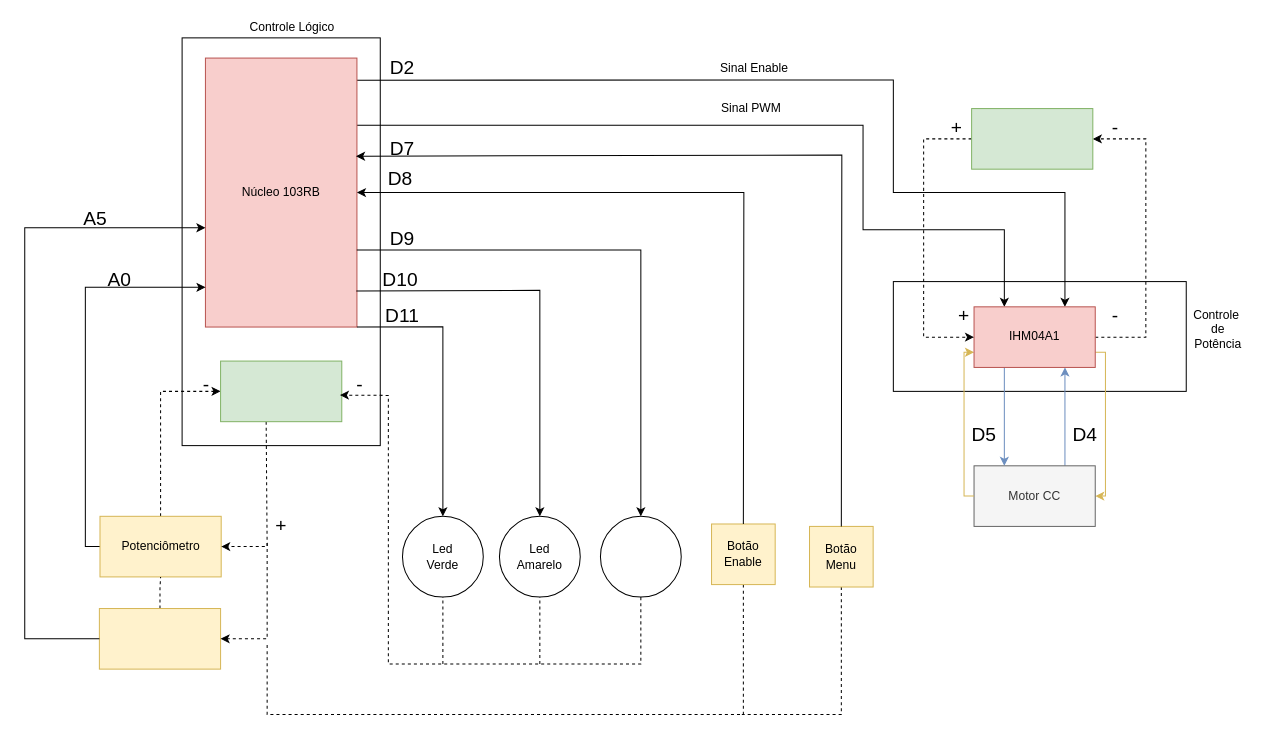
This 1265x733 diagram has some shape labels left out. Here are the shapes that lost their labels. From the top down, the centre of each, then its label:
the point at 1032,138: Fonte 12V
the point at 281,391: Fonte 3.3V
the point at 640,556: Led Vermelho
the point at 159,638: Joystick
